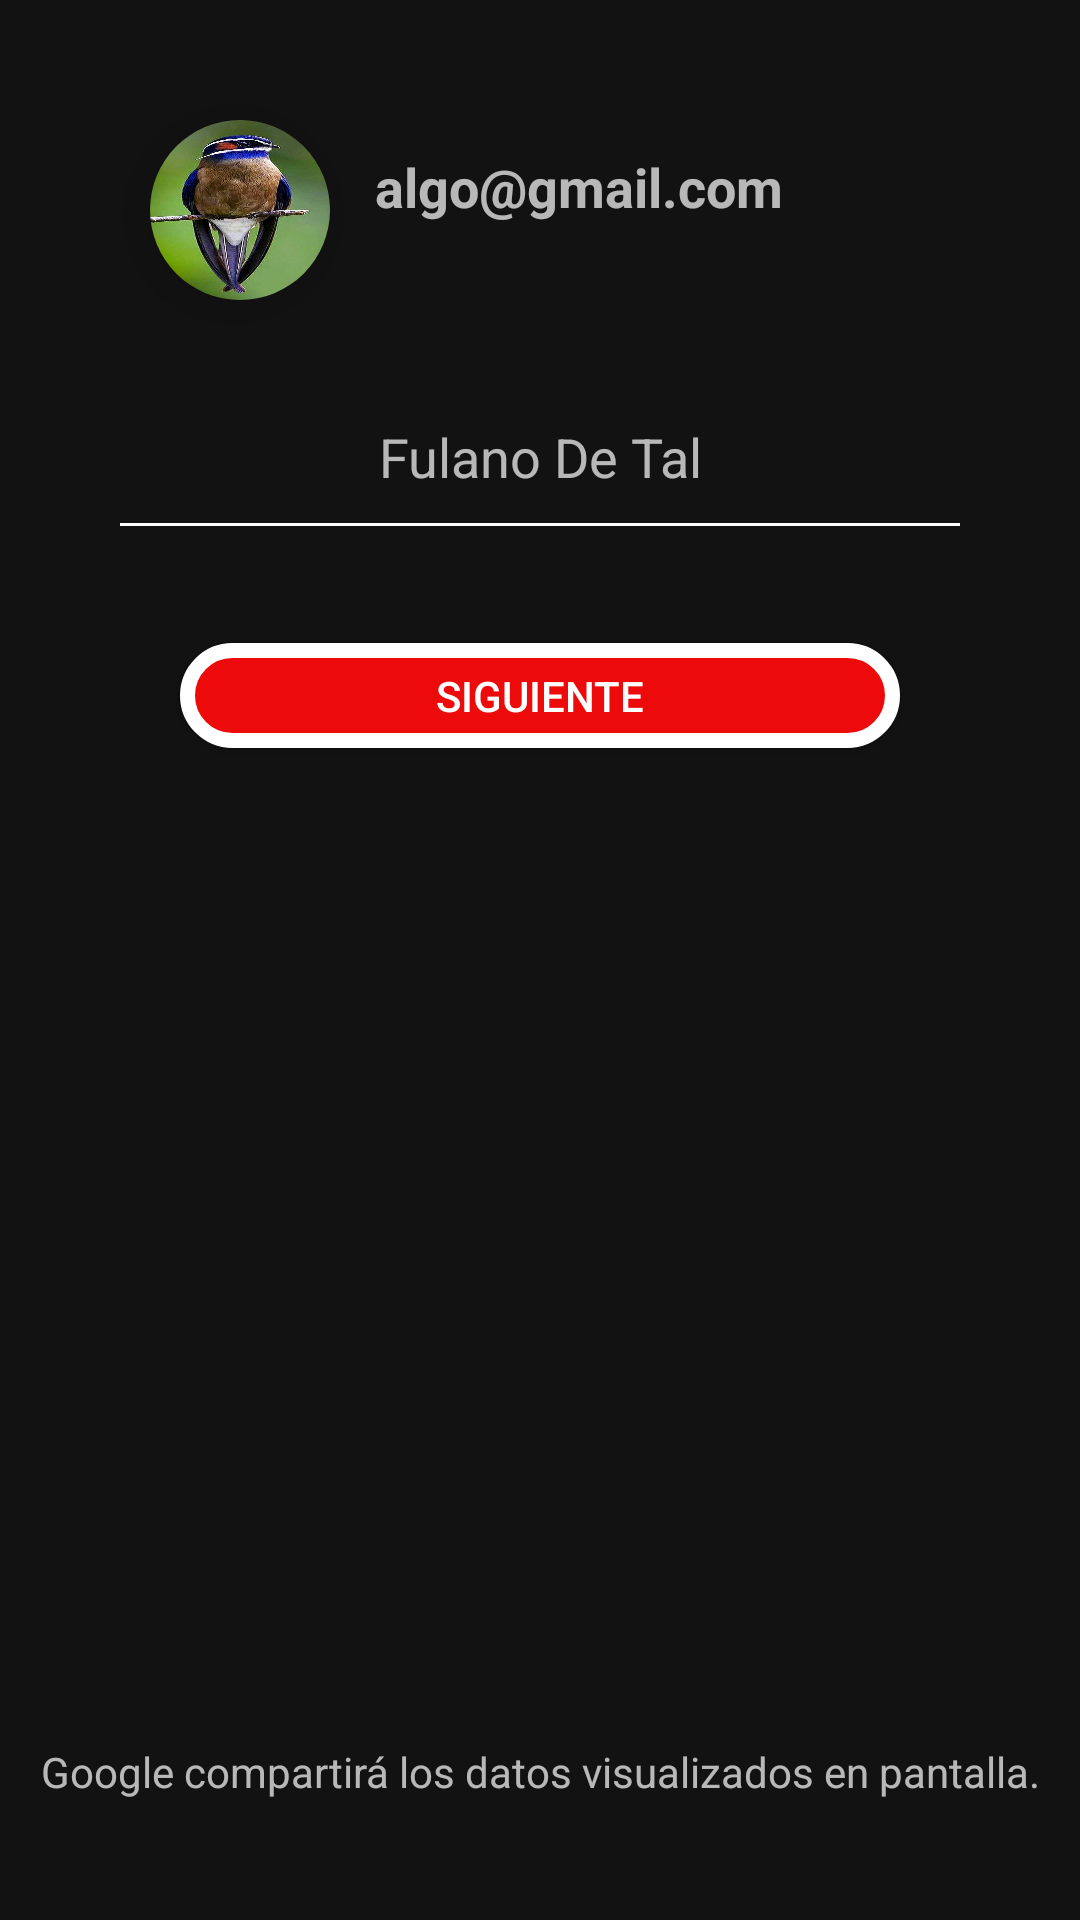

Named icons in this screenshot (1080px x 1920px) and their centers, (x=x, y=y):
pajaro: (x=240, y=210)
